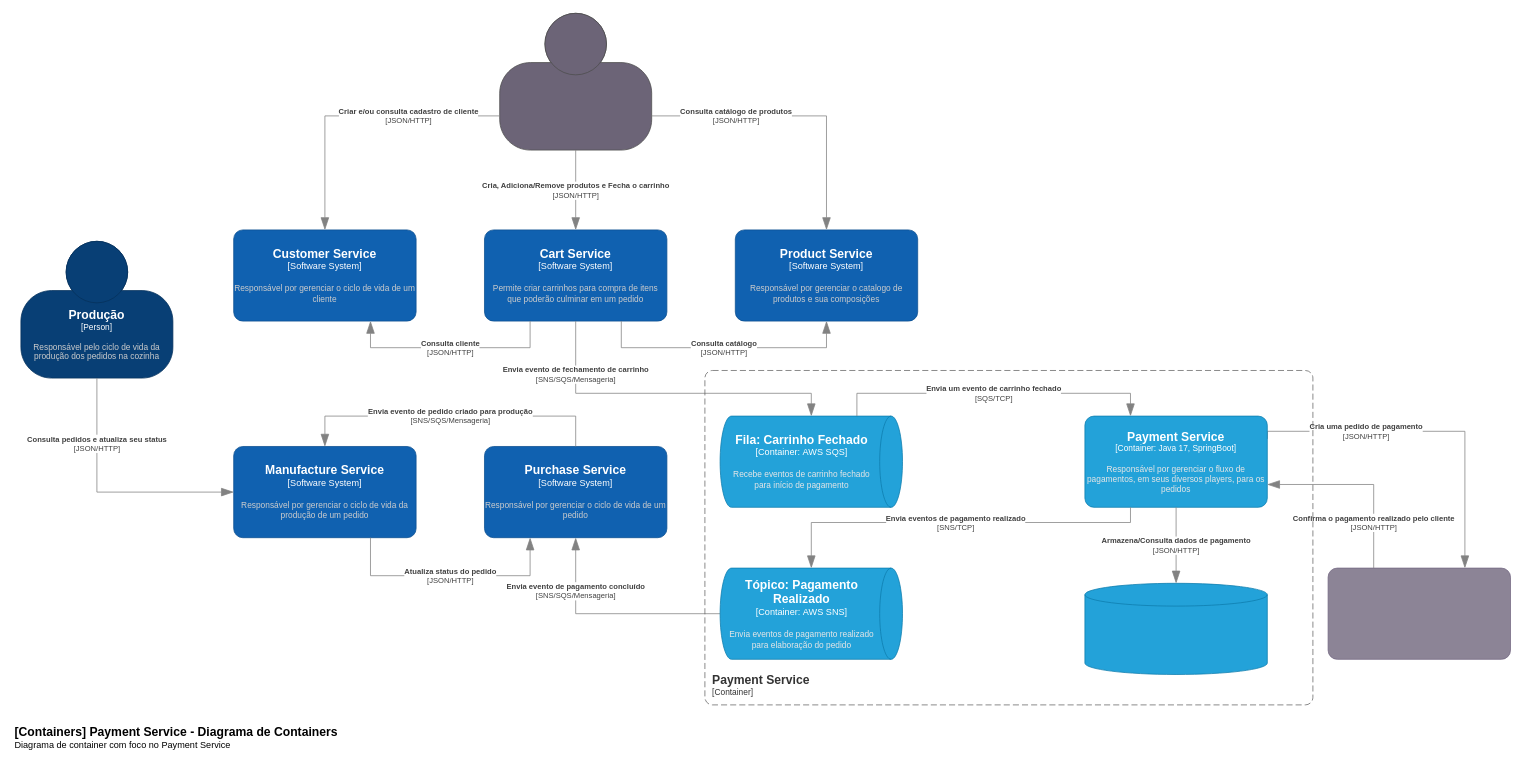
Some shapes in this 1524 by 765 pixel diagram are drawn without their labels. The box of each missing label's shape, as (x1, y1, x2, y2) in pixels:
Cliente [Person] Pessoa com interesse em compra em fastfood: (499, 13, 652, 150)
Mercado Pago [Software System] Meio de pagamento: (1327, 567, 1510, 659)
Payment Databse [Container: AWS DocumentDB] Armazenamento dos dados de pagamento: (1084, 583, 1267, 674)
